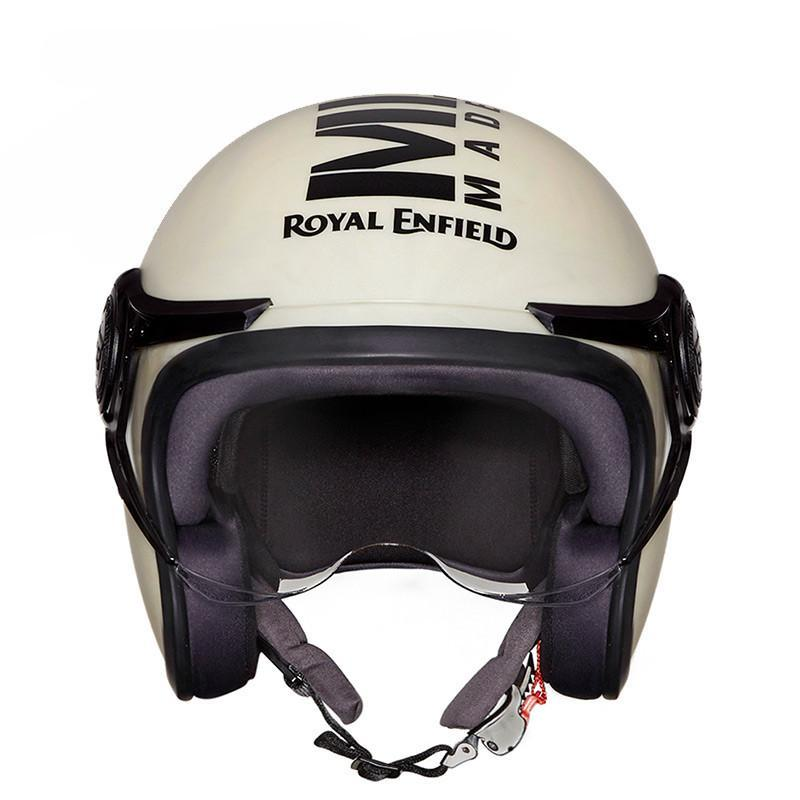helmet: (41, 79, 724, 782)
